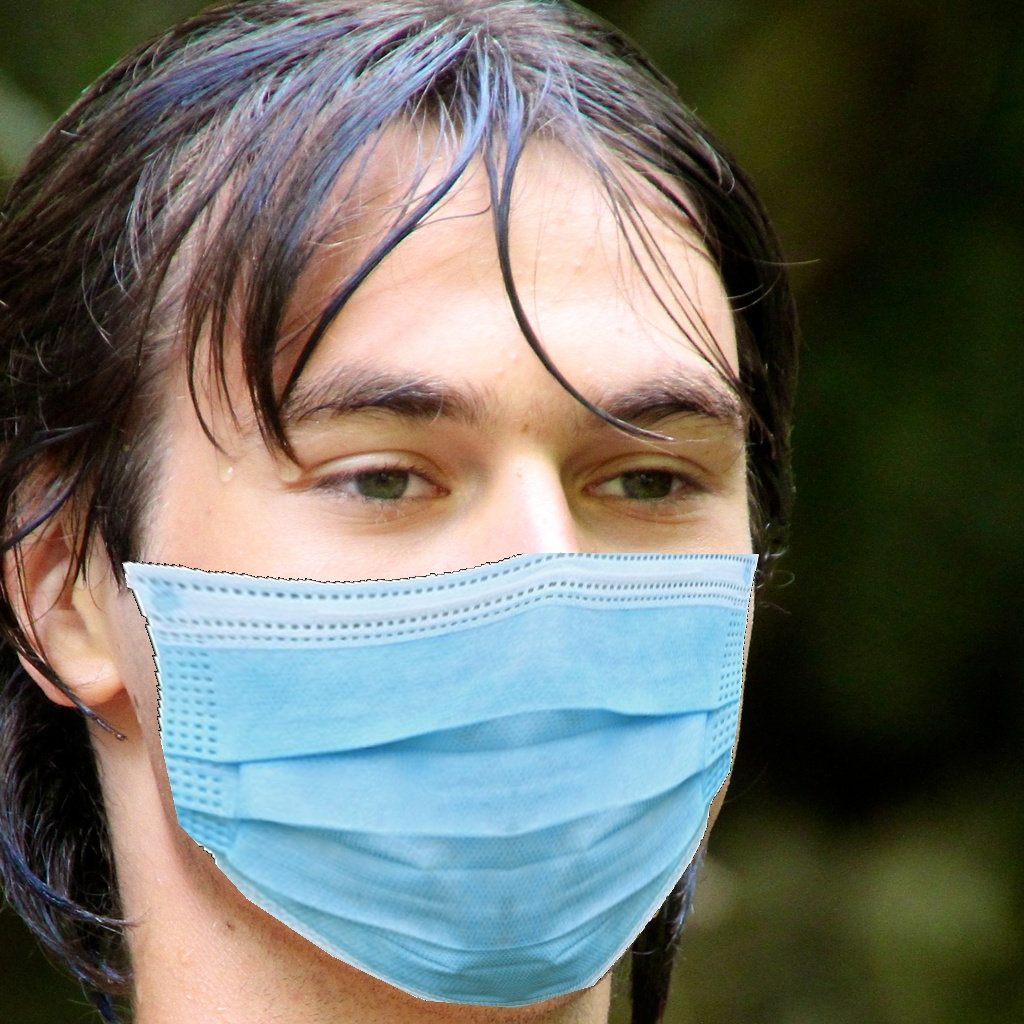Mask: (119, 322, 758, 1007)
